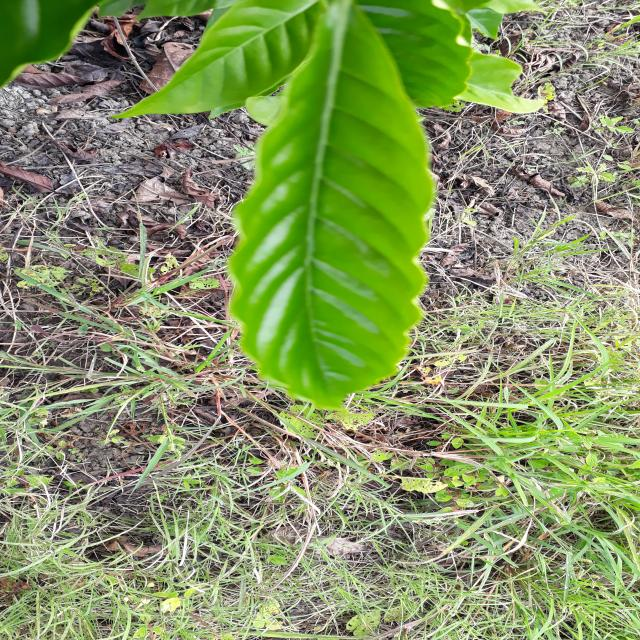Sanas: (227, 3, 437, 410)
